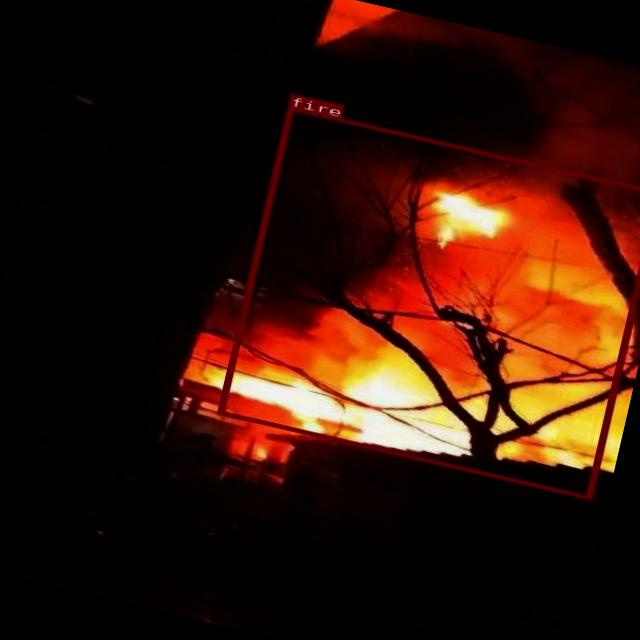fire: (215, 104, 640, 499)
